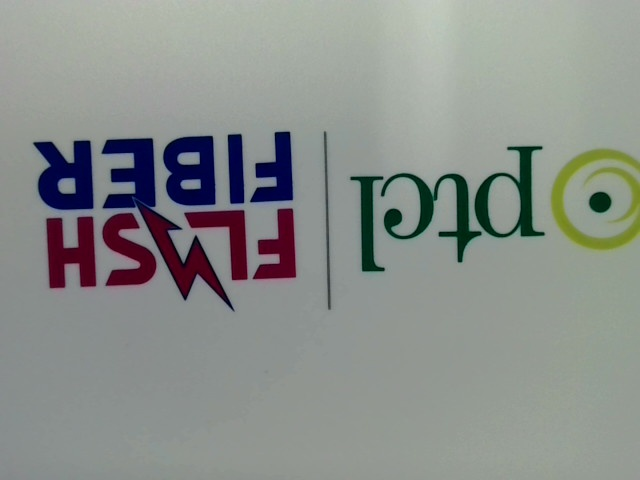BF_PTCL: (346, 136, 638, 283)
